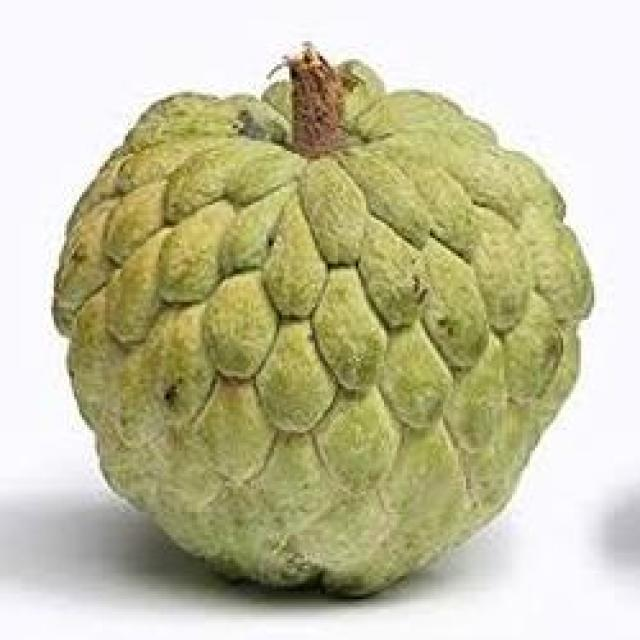apple: (44, 44, 599, 596)
